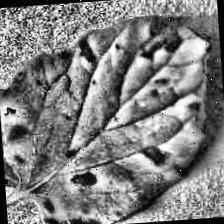disease: (0, 11, 220, 224)
